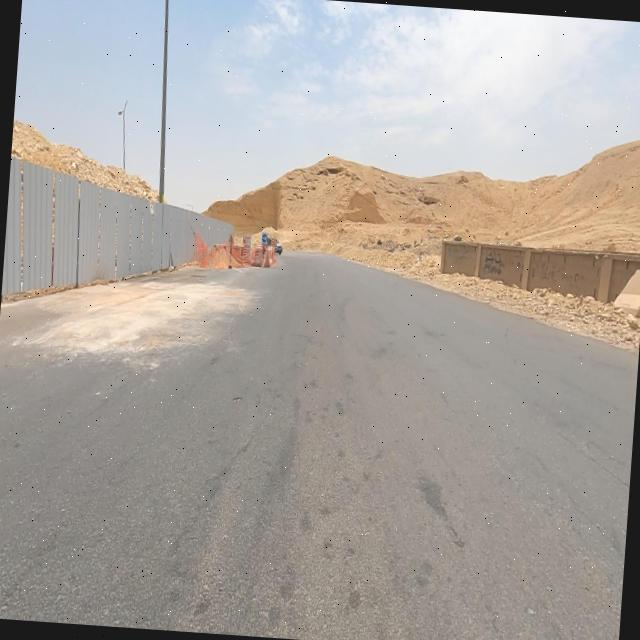Graffiti: (541, 262, 583, 288), (484, 250, 504, 277), (446, 247, 469, 265)
